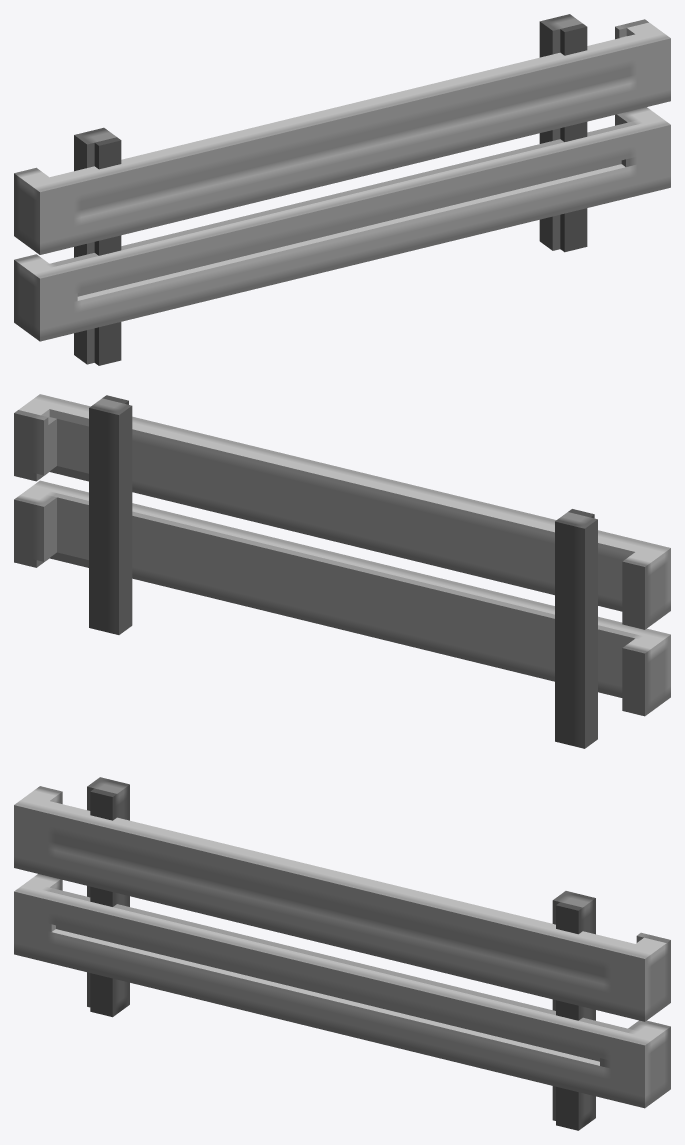
The model's file is Barrier_Metal_38.fbx.
3 renders of one model, top to bottom at view 1: azimuth 30°, elevation 25°; view 2: azimuth 150°, elevation 25°; view 3: azimuth 330°, elevation 25°, orthographic.
Parts seen in each view (by area): view 1: Voxelized_Barrier_Metal; view 2: Voxelized_Barrier_Metal; view 3: Voxelized_Barrier_Metal.
Part boxes in pixels (x1,y1,x2,y2): Voxelized_Barrier_Metal: (14, 14, 670, 365); Voxelized_Barrier_Metal: (14, 394, 670, 748); Voxelized_Barrier_Metal: (14, 777, 670, 1130).
Bounding box in the file's own units: 84 × 28 × 6.
